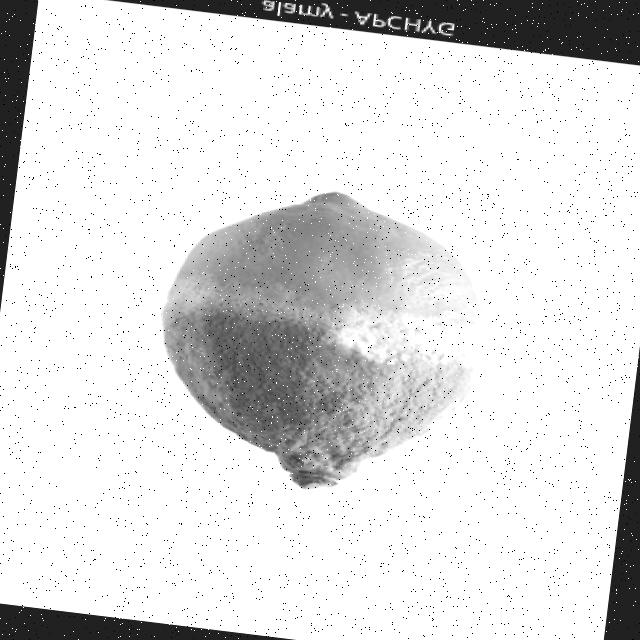Rotten: (134, 168, 508, 518)
